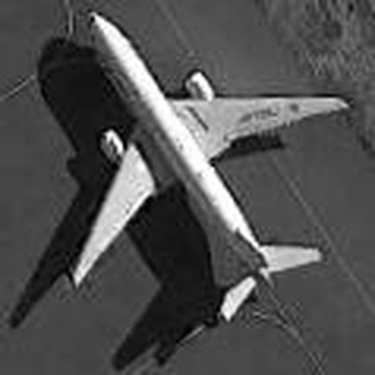airplane: (43, 1, 355, 321)
